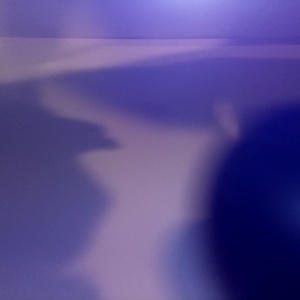dead_ball: (207, 106, 300, 300)
